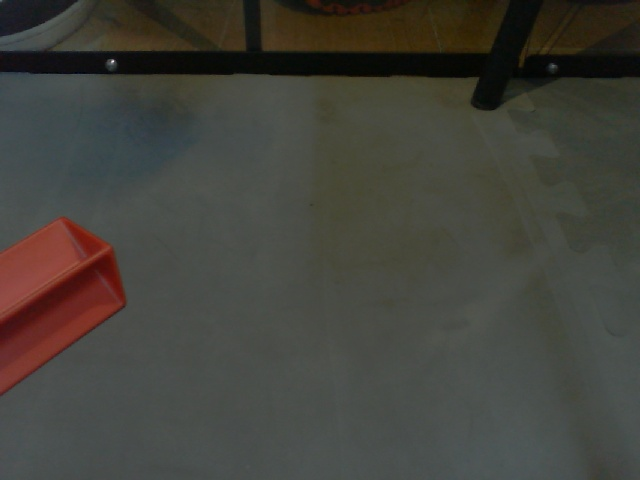RedSample: (1, 213, 128, 401)
